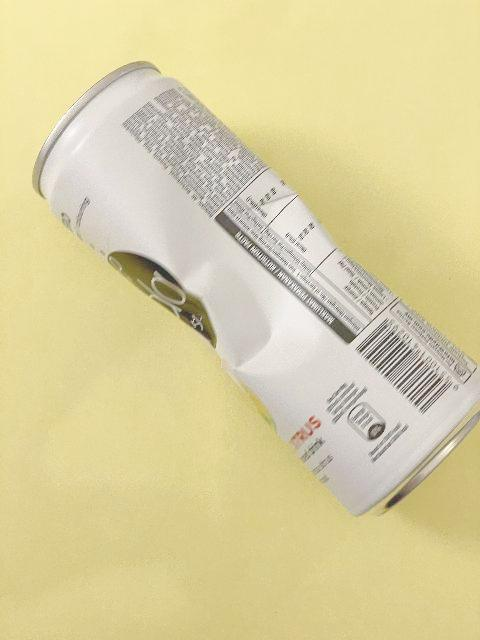drinkcan: (30, 57, 480, 521)
